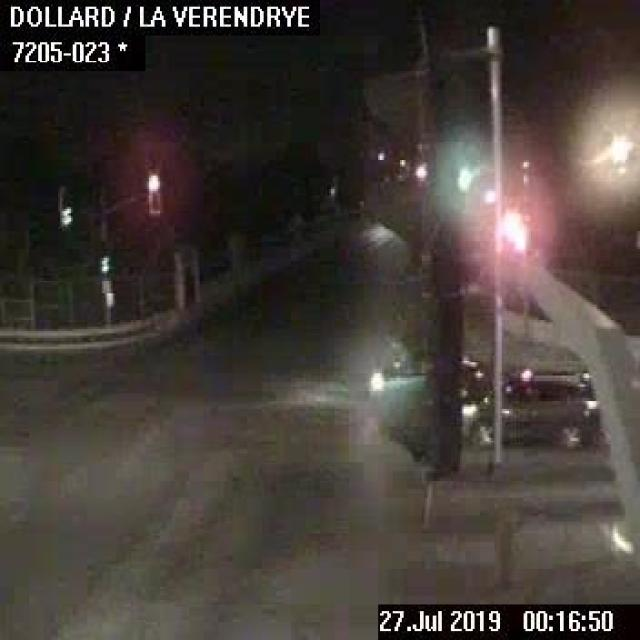vehicle: (459, 365, 600, 451), (362, 348, 490, 401)
